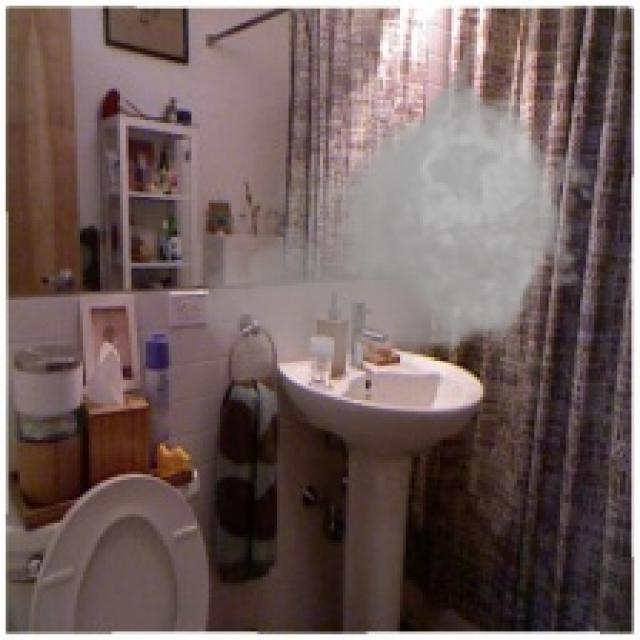smoke: (194, 34, 609, 389)
